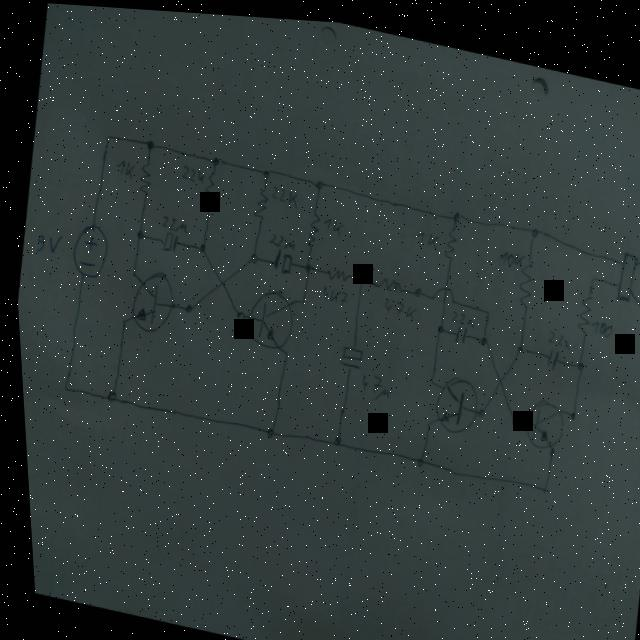capacitor: (333, 338, 361, 365), (267, 243, 290, 272), (157, 227, 177, 250), (449, 317, 465, 340), (540, 339, 556, 362)
crossover: (425, 275, 454, 301), (487, 362, 504, 383), (209, 269, 225, 288)
junction: (258, 421, 271, 436), (510, 335, 523, 350), (100, 387, 113, 401), (230, 305, 242, 320), (473, 327, 485, 342), (469, 399, 481, 413), (327, 428, 337, 444), (352, 267, 364, 280), (448, 203, 459, 217), (526, 217, 537, 231), (244, 249, 256, 261), (258, 163, 269, 176), (533, 474, 544, 487), (421, 369, 431, 383), (503, 406, 513, 420), (570, 352, 581, 364), (584, 265, 595, 277), (132, 225, 142, 238), (312, 173, 322, 186), (409, 279, 419, 292), (143, 136, 153, 148), (208, 152, 218, 164), (193, 239, 203, 251), (299, 257, 309, 269), (478, 299, 488, 311), (562, 401, 572, 413), (114, 314, 124, 325), (431, 316, 441, 327), (180, 299, 189, 311), (56, 381, 65, 392), (294, 291, 302, 303), (419, 413, 427, 425), (126, 267, 134, 278), (277, 343, 285, 354), (410, 450, 418, 461), (101, 130, 110, 139)
resistor: (510, 251, 534, 303), (569, 283, 592, 329), (246, 180, 269, 218), (300, 205, 320, 246), (197, 165, 216, 205), (133, 156, 153, 193), (438, 218, 457, 254), (372, 268, 401, 290), (320, 260, 347, 280)
source: (62, 219, 109, 280)
text: (352, 365, 388, 398), (29, 226, 61, 258), (378, 289, 414, 316), (315, 278, 344, 302), (266, 181, 297, 203), (157, 210, 187, 232), (177, 160, 205, 183), (541, 321, 568, 343), (263, 228, 294, 247), (410, 224, 437, 245), (495, 241, 522, 262), (317, 210, 342, 232), (445, 302, 472, 321), (585, 309, 609, 330), (112, 155, 132, 176)
transistor: (236, 280, 296, 350), (423, 364, 479, 433), (122, 264, 176, 335), (514, 387, 565, 448)
